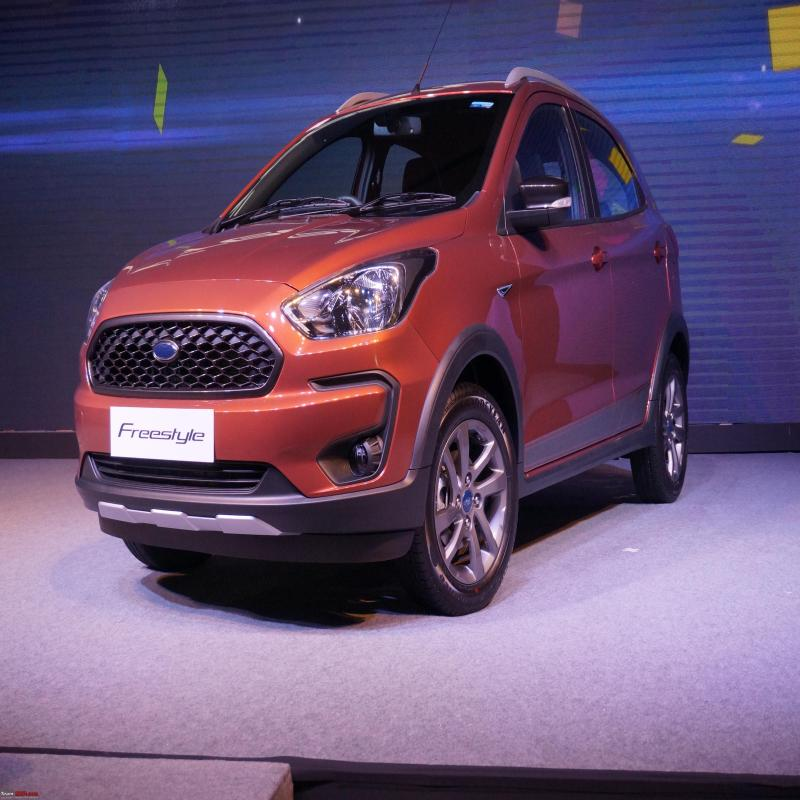car: (51, 74, 704, 642)
